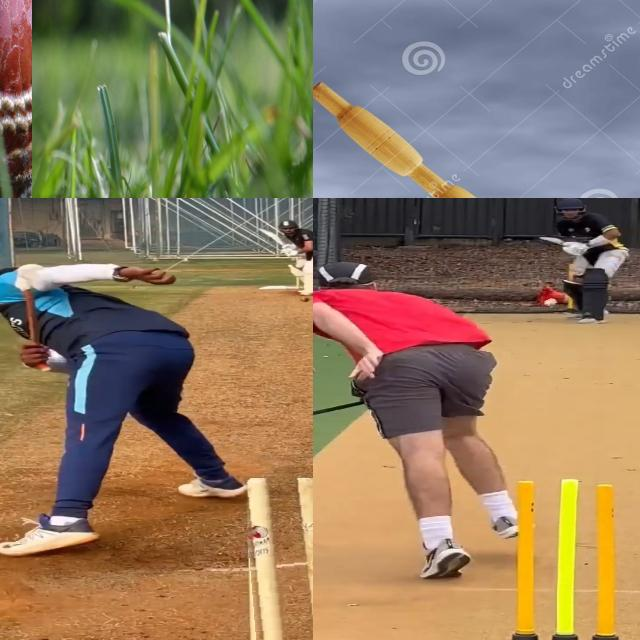Cricket ball: (543, 298, 559, 308), (300, 297, 310, 302)
Stumps: (494, 477, 636, 640), (243, 478, 313, 640)
